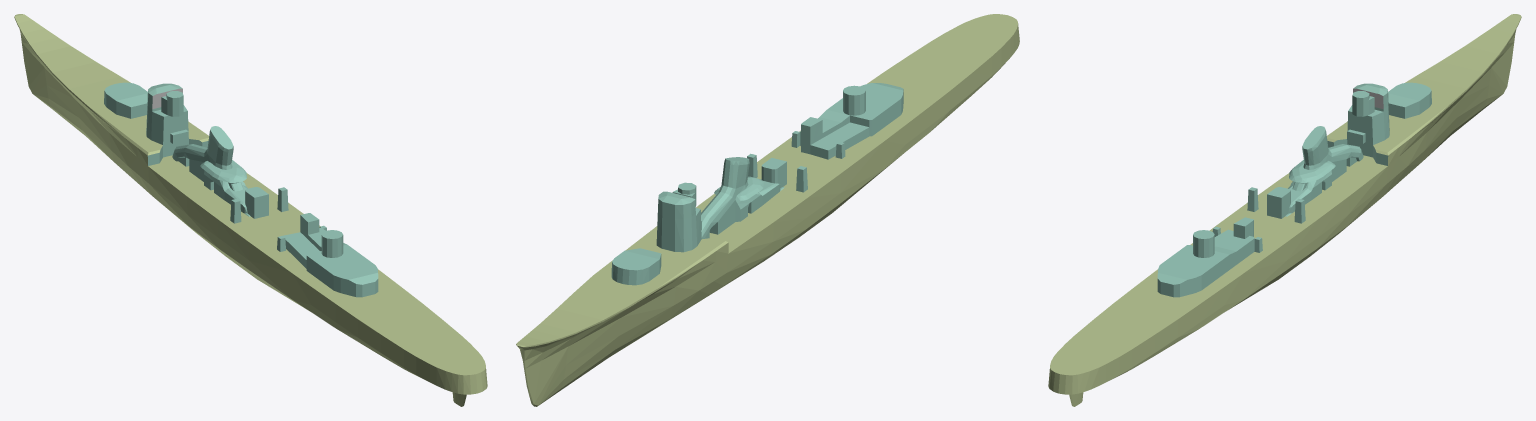
The model's file is PJSD108_armor.glb.
3 renders of one model, left to right at view 1: azimuth 30°, elevation 25°; view 2: azimuth 150°, elevation 25°; view 3: azimuth 330°, elevation 25°, orthographic. The views are drawn at different scales.
Parts seen in each view (by area): view 1: armor; view 2: armor; view 3: armor.
Part boxes in pixels (x1,y1,x2,y2): armor: (14, 14, 487, 406); armor: (516, 14, 1019, 406); armor: (1048, 14, 1521, 406).
Size of the model in its own units: 17.58 by 24.91 by 200.
